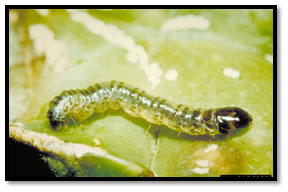Armyworm: (41, 78, 265, 151)
